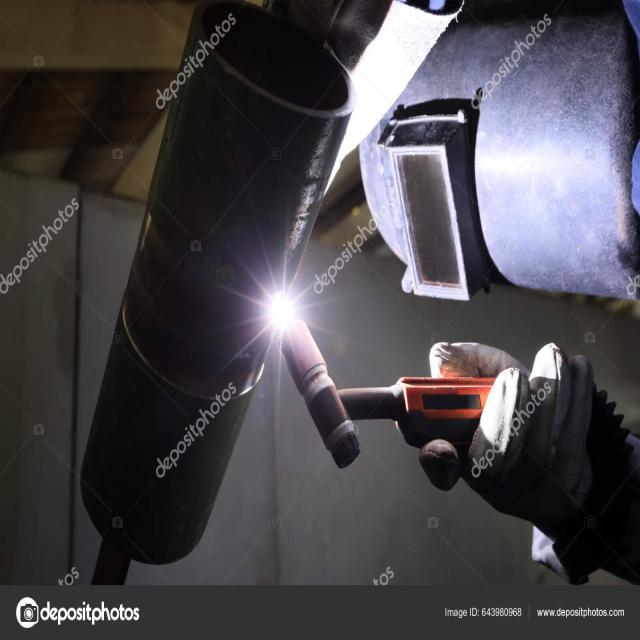welding: (263, 282, 298, 334)
